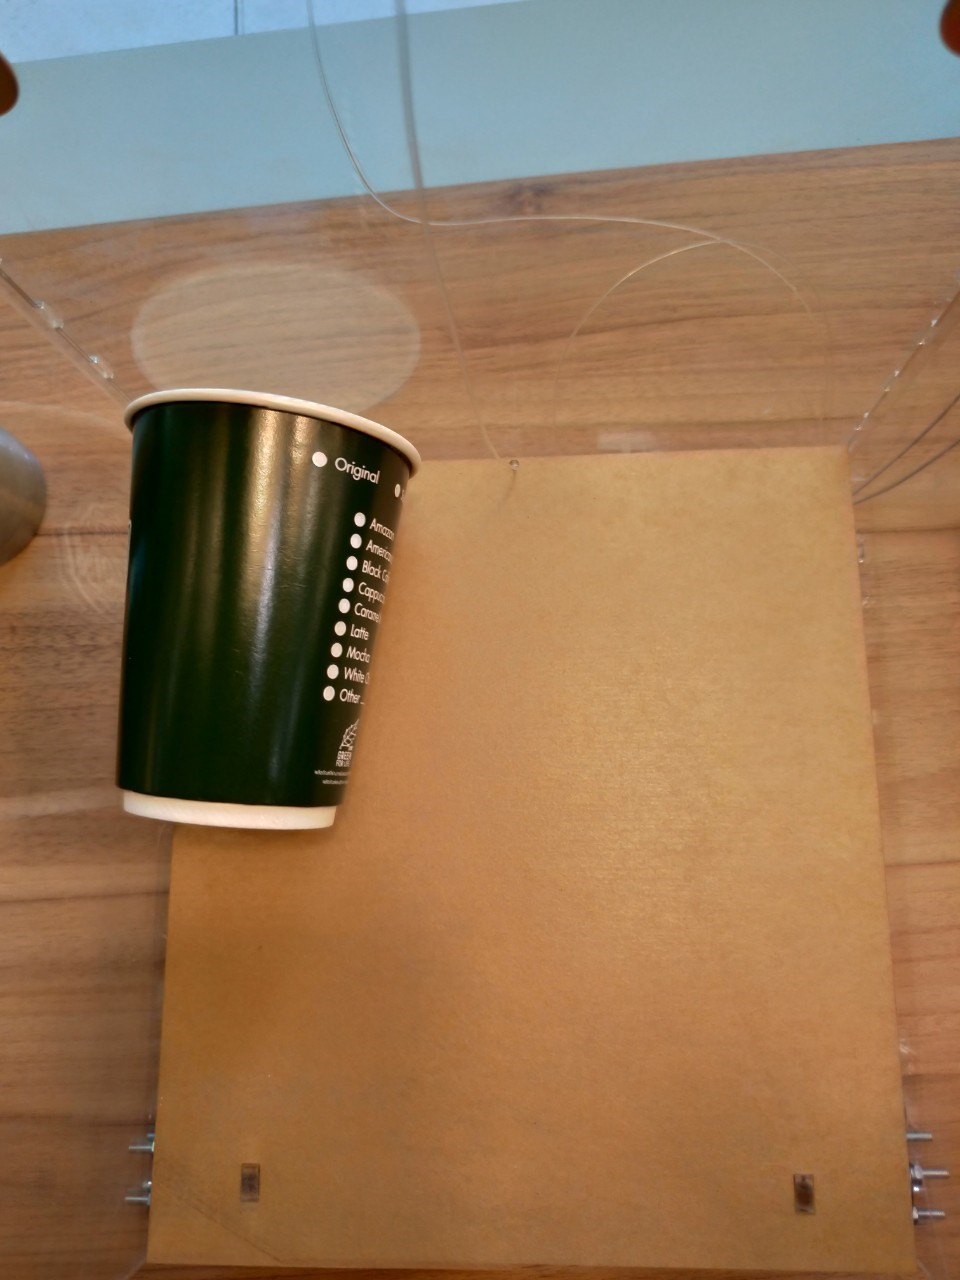PaperCup: (112, 384, 422, 831)
